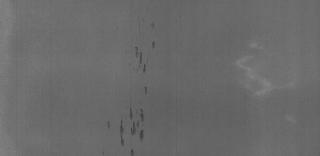oil spot: (107, 105, 149, 152), (130, 34, 156, 72), (142, 84, 150, 96)
